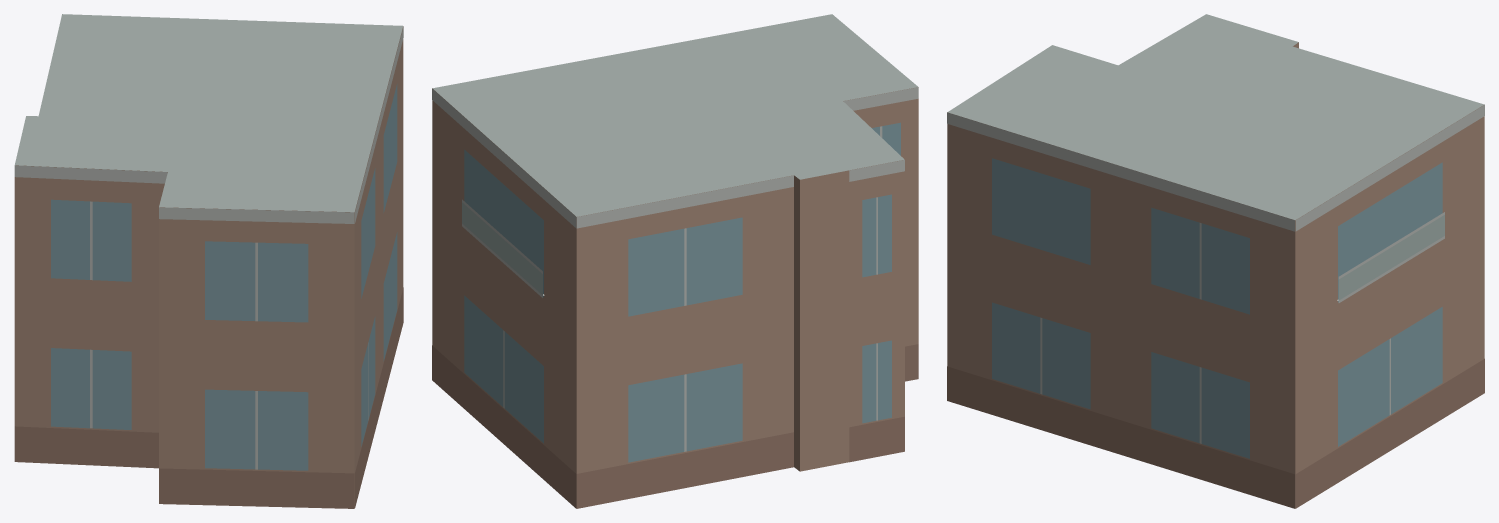
Rendered from survey-upis-32570086.glb.
The picture shows the model from 3 angles, left to right: view 1: azimuth 30°, elevation 25°; view 2: azimuth 150°, elevation 25°; view 3: azimuth 270°, elevation 25°; orthographic projection. The views are drawn at different scales.
Visible parts, largest first — view 1: survey-upis-32570086.tmp; view 2: survey-upis-32570086.tmp; view 3: survey-upis-32570086.tmp.
Boxes of the visible parts, x1,y1,x2,y2 form: survey-upis-32570086.tmp: [14, 14, 403, 508]; survey-upis-32570086.tmp: [432, 14, 918, 508]; survey-upis-32570086.tmp: [947, 14, 1484, 508].
Size of the model in its own units: 9.36 by 6.1 by 10.3.
